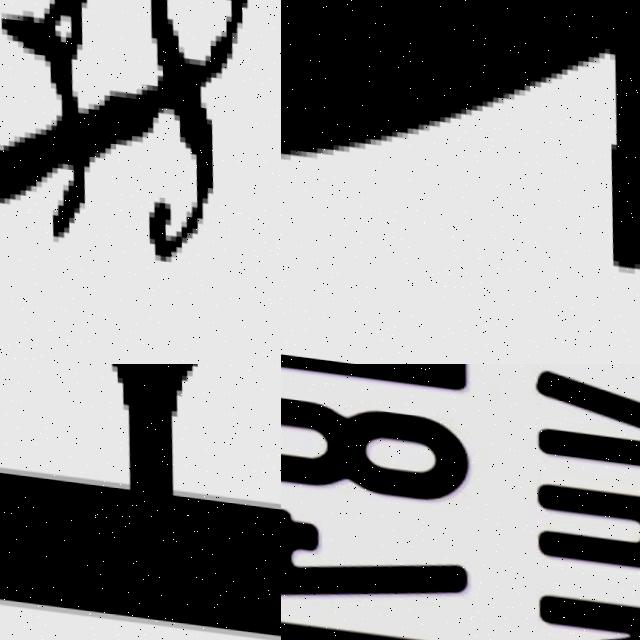4: (281, 498, 466, 622)
7: (281, 0, 640, 291)
8: (281, 381, 469, 506)
E: (0, 0, 245, 237)
H: (520, 473, 640, 583)
M: (523, 585, 640, 640)
R: (516, 364, 640, 478)
